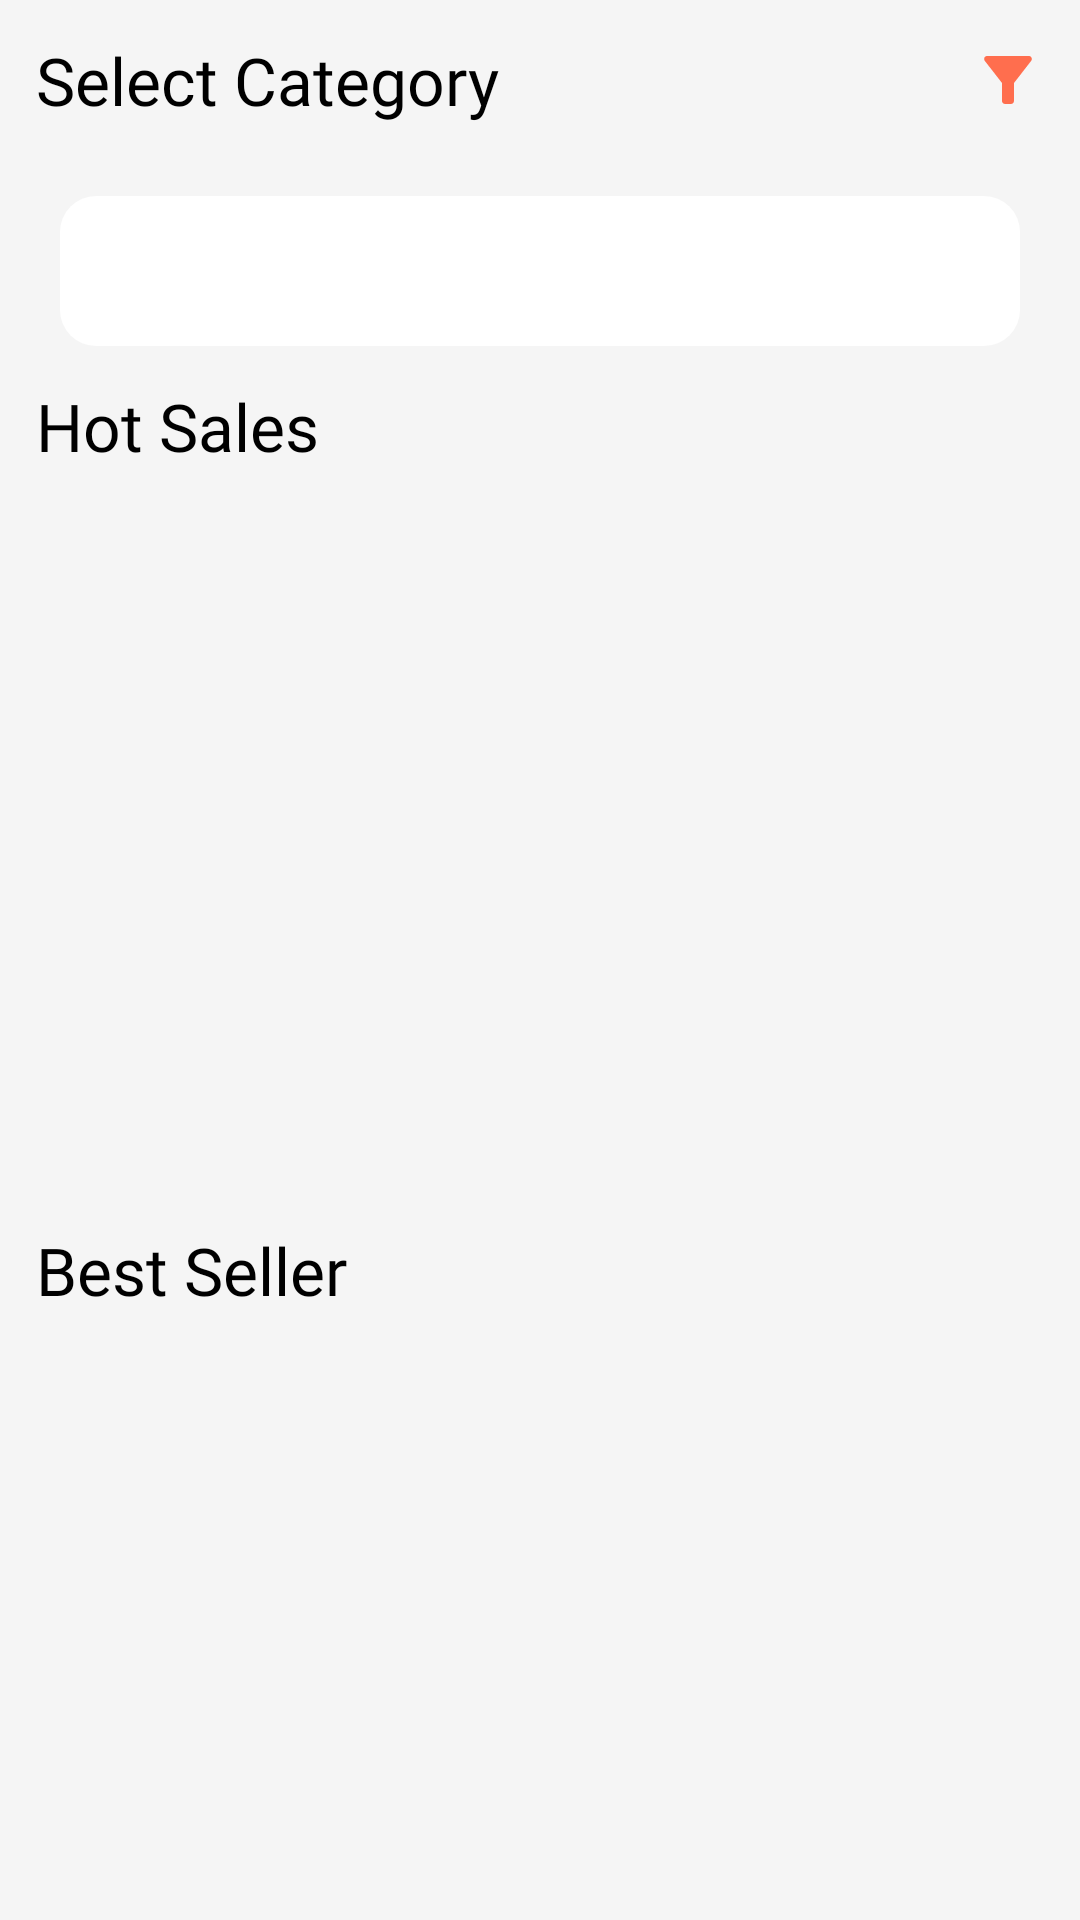

Where icons sit on this 1080x1920 app screen, as (x1=x1, y1=y1, x2=x2, y2=y2):
filter: (x1=984, y1=56, x2=1032, y2=104)
